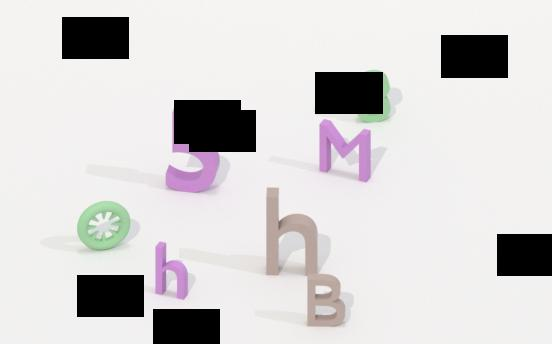5: (156, 101, 222, 196)
8: (351, 67, 394, 129)
M-hoa: (316, 115, 374, 183)
b: (303, 271, 349, 332)
h: (262, 181, 320, 282), (151, 235, 192, 304)
tron: (72, 196, 135, 255)
